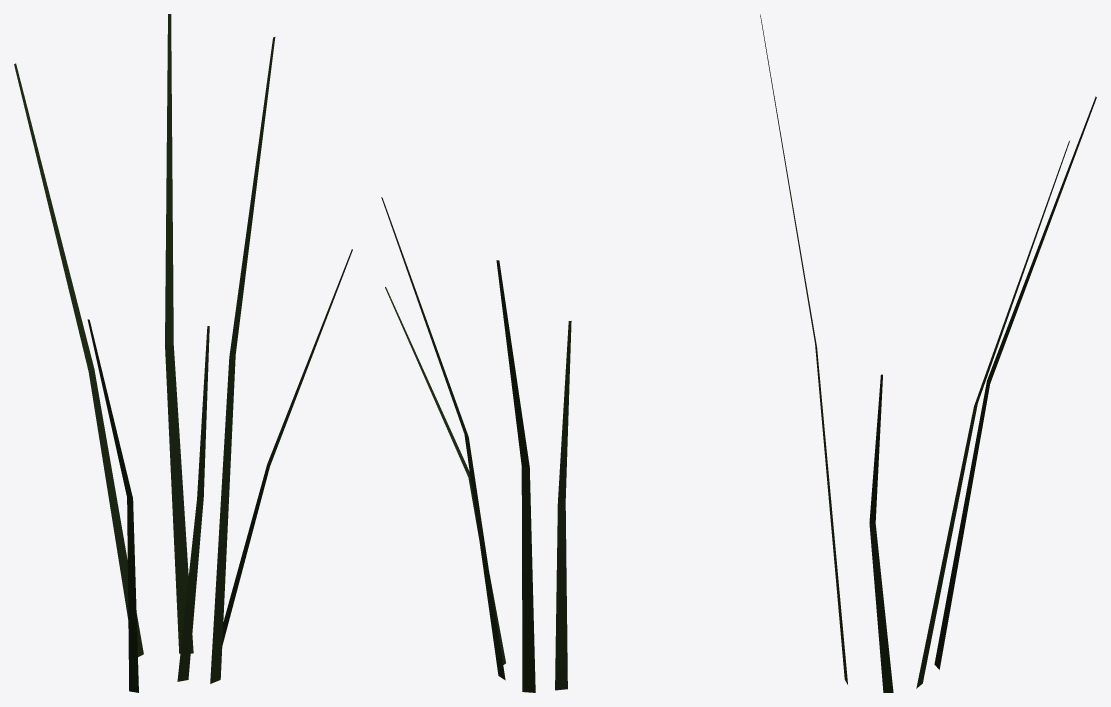
Rendered from shi-daze-wet-field-vegetation-v1-stalk-lod1.glb.
3 renders of one model, left to right at view 1: azimuth 30°, elevation 25°; view 2: azimuth 150°, elevation 25°; view 3: azimuth 270°, elevation 25°, orthographic. The views are drawn at different scales.
Parts seen in each view (by area): view 1: SM_SHI_FieldStalkClump_01_LOD1; view 2: SM_SHI_FieldStalkClump_01_LOD1; view 3: SM_SHI_FieldStalkClump_01_LOD1.
Part boxes in pixels (x1=…): SM_SHI_FieldStalkClump_01_LOD1: x1=14, y1=14, x2=352, y2=692; SM_SHI_FieldStalkClump_01_LOD1: x1=381, y1=197, x2=571, y2=692; SM_SHI_FieldStalkClump_01_LOD1: x1=760, y1=14, x2=1096, y2=692.
Size of the model in its own units: 0.68 by 1.35 by 0.61.
